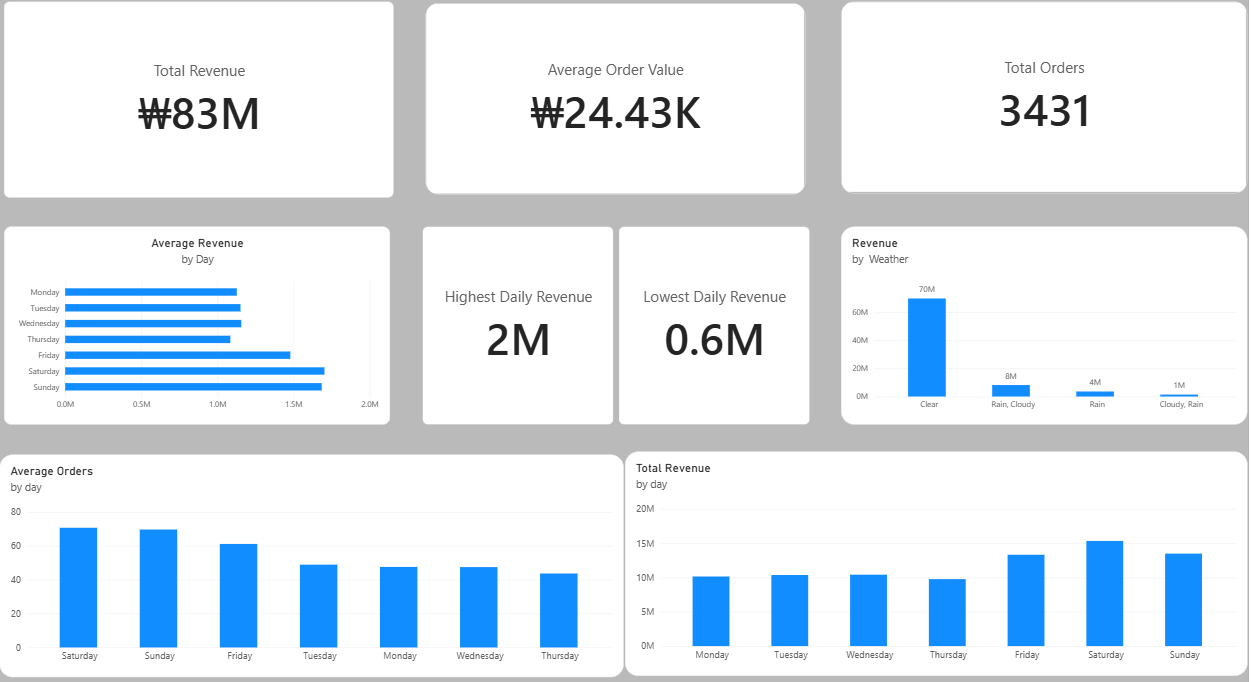

Layout of this report page (visuals, bound fields, positions):
{"tool":"powerbi","page":{"name":"Page 1","canvas":[1920,1080],"ordinal":0},"visuals":[{"type":"cardVisual","fields":{"Data":["Sum(chicken_sales_.orders)"]},"box":[1303.7,25,615.5,290.7],"z":0},{"type":"cardVisual","fields":{"Data":["Avg(chicken_sales_.aov)"]},"box":[674.6,27.3,575,290],"z":1000},{"type":"clusteredColumnChart","fields":{"Category":["chicken_sales_.day"],"Y":["Sum(chicken_sales_.revenue)"]},"box":[977.5,707.5,942.5,340],"z":2000},{"type":"clusteredColumnChart","fields":{"Category":["chicken_sales_.weather"],"Y":["Sum(chicken_sales_.revenue)"]},"box":[1303.7,365.7,615.5,299.8],"z":3000},{"type":"barChart","fields":{"Category":["chicken_sales_.day"],"Y":["Avg(chicken_sales_.revenue)"]},"box":[37.2,365.1,584.8,300],"z":4000},{"type":"clusteredColumnChart","fields":{"Category":["chicken_sales_.day"],"Y":["Avg(chicken_sales_.orders)"]},"box":[30,710,945,337.5],"z":5000},{"type":"cardVisual","fields":{"Data":["chicken_sales_.best day sale","chicken_sales_.Worst Day M"]},"box":[670,365.7,586,300],"z":6000},{"type":"cardVisual","fields":{"Data":["chicken_sales_.Total Revenue"]},"box":[37,25,590,297],"z":7000}]}

Visuals, with their boxes on the page's 1920x1080 design canvas (x1, y1, x2, y2). These are canvas units, not pixel positions in the 1251x682 screenshot, which may show the page scaled, cropped or inside an application window:
cardVisual - Sum(chicken_sales_.orders): <region>1304, 25, 1919, 316</region>
cardVisual - Avg(chicken_sales_.aov): <region>675, 27, 1250, 317</region>
clusteredColumnChart - chicken_sales_.day x Sum(chicken_sales_.revenue): <region>978, 708, 1920, 1048</region>
clusteredColumnChart - chicken_sales_.weather x Sum(chicken_sales_.revenue): <region>1304, 366, 1919, 666</region>
barChart - chicken_sales_.day x Avg(chicken_sales_.revenue): <region>37, 365, 622, 665</region>
clusteredColumnChart - chicken_sales_.day x Avg(chicken_sales_.orders): <region>30, 710, 975, 1048</region>
cardVisual - chicken_sales_.best day sale x chicken_sales_.Worst Day M: <region>670, 366, 1256, 666</region>
cardVisual - chicken_sales_.Total Revenue: <region>37, 25, 627, 322</region>
